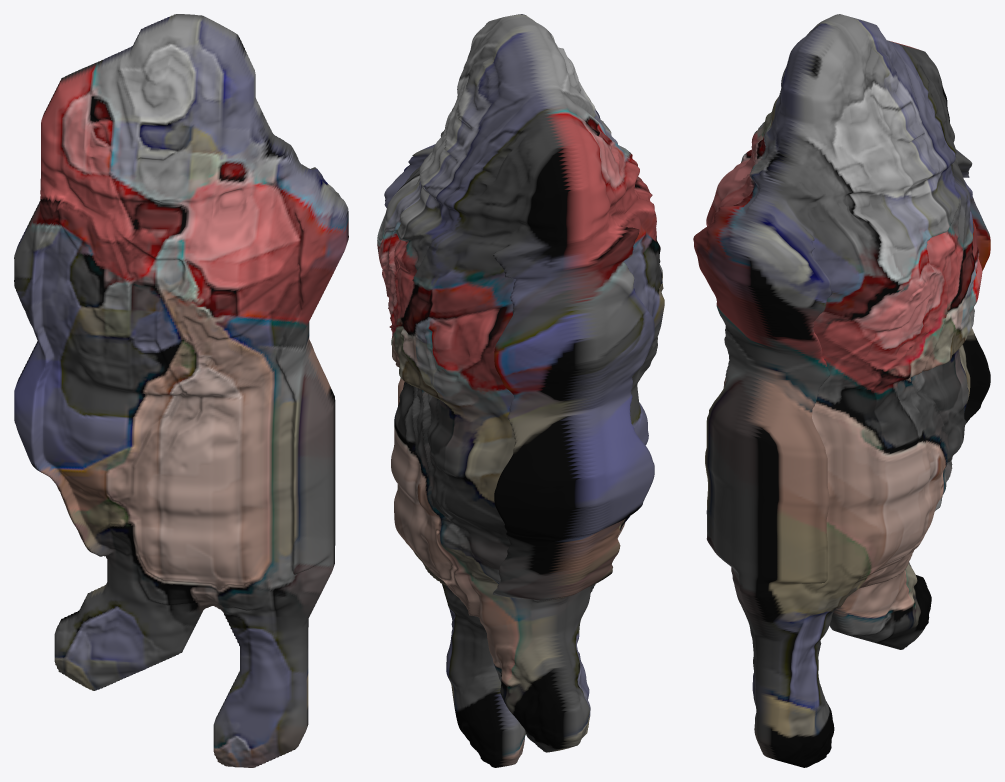
File: conscript.glb
3 renders of one model, left to right at view 1: azimuth 30°, elevation 25°; view 2: azimuth 150°, elevation 25°; view 3: azimuth 270°, elevation 25°, orthographic. The views are drawn at different scales.
Parts seen in each view (by area): view 1: soviet_conscript; view 2: soviet_conscript; view 3: soviet_conscript.
Boxes of the visible parts, x1,y1,x2,y2 form: soviet_conscript: (14,14,348,767); soviet_conscript: (377,14,664,767); soviet_conscript: (693,14,990,767).
Bounding box in the file's own units: 0.8759 × 2.23 × 0.8283.
